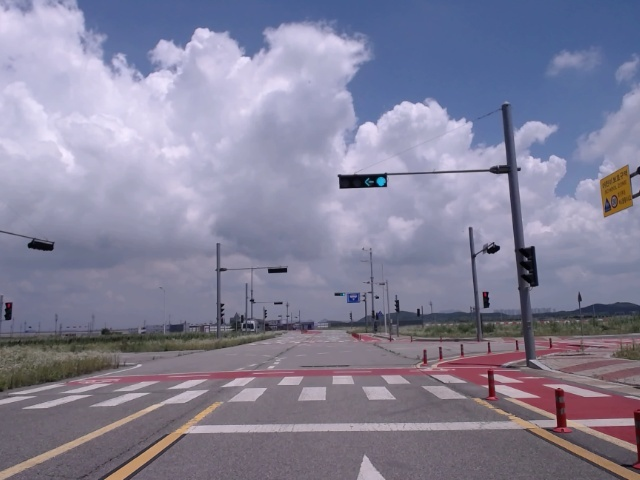all_green_4: (339, 175, 387, 187)
